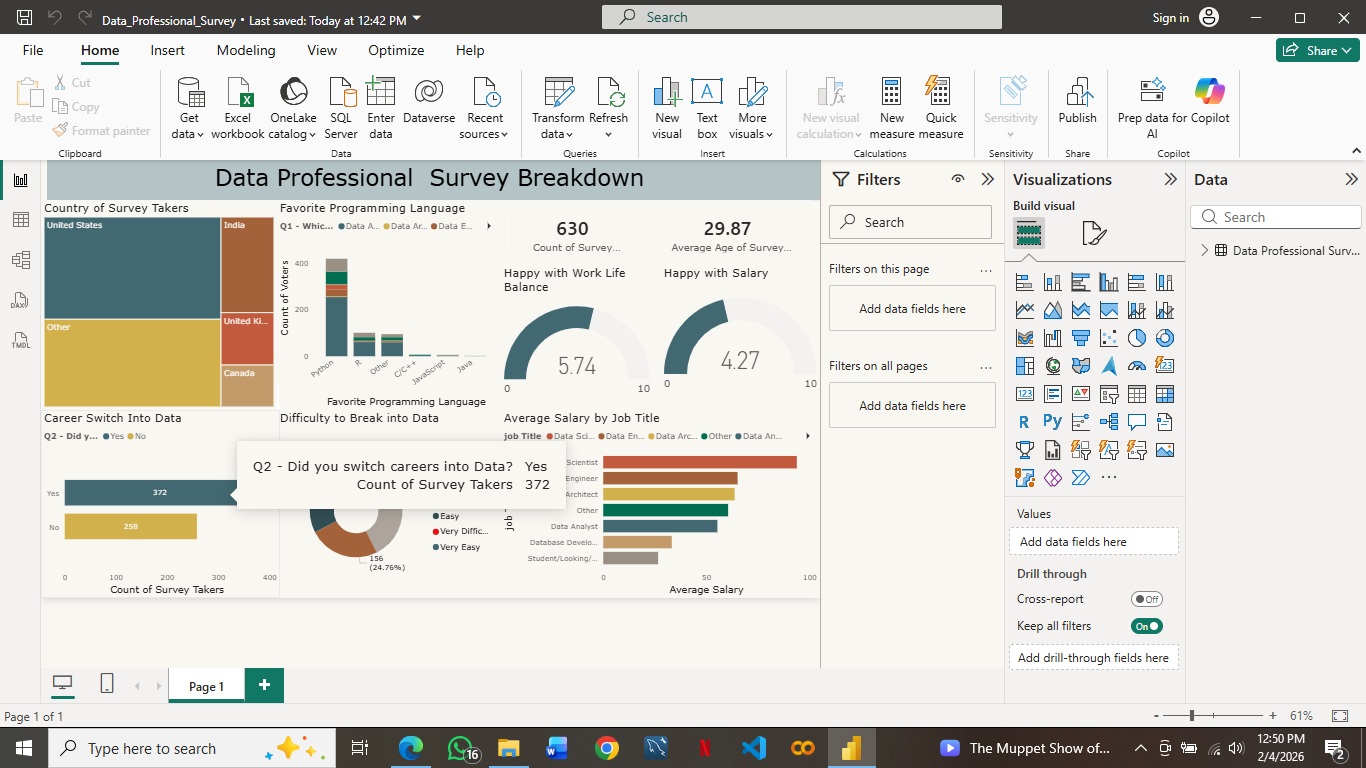

The dashboard page shown, as its layout file describes it:
{"tool":"powerbi","page":{"name":"Page 1","canvas":[1280,720],"ordinal":0},"visuals":[{"type":"textbox","box":[10.1,0,1269.9,65.5],"z":0},{"type":"cardVisual","fields":{"Data":["Count(Data Professional Survey.Unique ID)"]},"box":[755.8,65.7,233.3,106.8],"z":1000},{"type":"cardVisual","fields":{"Data":["Avg(Data Professional Survey.Q10 - Current Age)"]},"box":[989.2,65.7,276,106.8],"z":2000},{"type":"barChart","title":"Average Salary by Job Title","fields":{"Category":["Data Professional Survey.Q1 - Which Title Best Fits your Current Role?.1"],"Y":["Avg(Data Professional Survey.Average Salary)"],"Series":["Data Professional Survey.Q1 - Which Title Best Fits your Current Role?.1"]},"box":[755.8,410.8,524.2,308.9],"z":3000},{"type":"columnChart","title":"Favorite Programming Language","fields":{"Category":["Data Professional Survey.Q5 - Favorite Programming Language.1"],"Y":["Count(Data Professional Survey.Unique ID)"],"Series":["Data Professional Survey.Q1 - Which Title Best Fits your Current Role?.1"]},"box":[387.8,65.7,368.1,345.1],"z":4000},{"type":"gauge","title":"Happy with Work Life Balance","fields":{"Y":["Avg(Data Professional Survey.Q6 - How Happy are you in your Current Position with the following? (Work/Life Balance))"],"MinValue":["Min(Data Professional Survey.Q6 - How Happy are you in your Current Position with the following? (Work/Life Balance))1"],"MaxValue":["Max(Data Professional Survey.Q6 - How Happy are you in your Current Position with the following? (Work/Life Balance))2"]},"box":[755.8,172.5,249.8,238.3],"z":5000},{"type":"gauge","title":"Happy with Salary","fields":{"Y":["Avg(Data Professional Survey.Q6 - How Happy are you in your Current Position with the following? (Salary))"],"MinValue":["Min(Data Professional Survey.Q6 - How Happy are you in your Current Position with the following? (Salary))"],"MaxValue":["Max(Data Professional Survey.Q6 - How Happy are you in your Current Position with the following? (Salary))"]},"box":[1018.7,172.5,261.3,238.3],"z":6000},{"type":"donutChart","title":"Difficulty to Break into Data","fields":{"Category":["Data Professional Survey.Q7 - How difficult was it for you to break into Data?"],"Y":["CountNonNull(Data Professional Survey.Q7 - How difficult was it for you to break into Data?)"]},"box":[387.8,410.8,368.1,308.9],"z":7000},{"type":"barChart","title":"Career Switch Into Data","fields":{"Category":["Data Professional Survey.Q2 - Did you switch careers into Data?"],"Y":["Count(Data Professional Survey.Unique ID)"],"Series":["Data Professional Survey.Q2 - Did you switch careers into Data?"]},"box":[0,410.8,392.7,308.9],"z":8000},{"type":"treemap","title":"Country of Survey Takers","fields":{"Group":["Data Professional Survey.Q11 - Which Country do you live in?.1"],"Values":["CountNonNull(Data Professional Survey.Q11 - Which Country do you live in?.1)"]},"box":[0,65.7,387.8,345.1],"z":9000}]}

Visuals, with their boxes on the page's 1280x720 design canvas (x1, y1, x2, y2). These are canvas units, not pixel positions in the 1366x768 screenshot, which may show the page scaled, cropped or inside an application window:
textbox: (10, 0, 1280, 66)
cardVisual - Count(Data Professional Survey.Unique ID): (756, 66, 989, 172)
cardVisual - Avg(Data Professional Survey.Q10 - Current Age): (989, 66, 1265, 172)
"Average Salary by Job Title" barChart: (756, 411, 1280, 720)
"Favorite Programming Language" columnChart: (388, 66, 756, 411)
"Happy with Work Life Balance" gauge: (756, 172, 1006, 411)
"Happy with Salary" gauge: (1019, 172, 1280, 411)
"Difficulty to Break into Data" donutChart: (388, 411, 756, 720)
"Career Switch Into Data" barChart: (0, 411, 393, 720)
"Country of Survey Takers" treemap: (0, 66, 388, 411)
